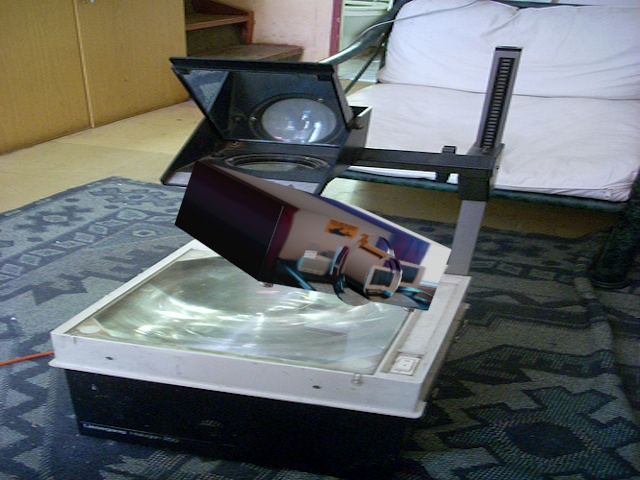projector: (169, 160, 456, 321)
